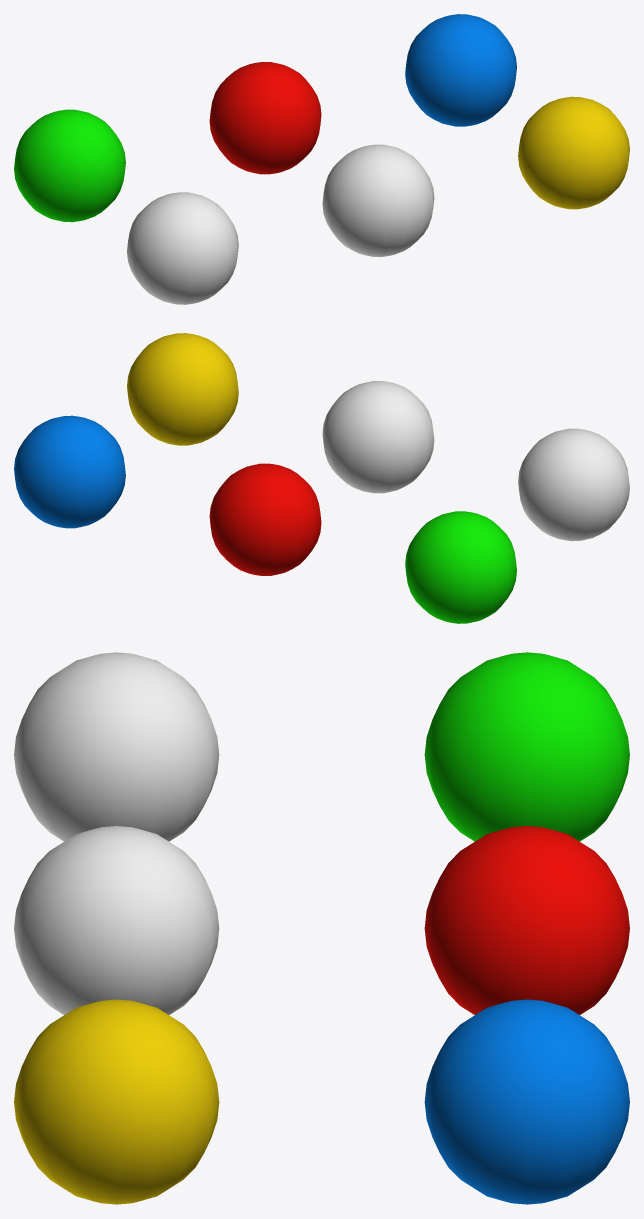
Rendered from pbr.glb.
3 renders of one model, top to bottom at view 1: azimuth 30°, elevation 25°; view 2: azimuth 150°, elevation 25°; view 3: azimuth 270°, elevation 25°, orthographic. The views are drawn at different scales.
Visible parts, largest first — view 1: Sphere, Sphere.005, Sphere.002, Sphere.003, Sphere.001, Sphere.004; view 2: Sphere.001, Sphere.004, Sphere.002, Sphere.003, Sphere, Sphere.005; view 3: Sphere, Sphere.004, Sphere.001, Sphere.005, Sphere.002, Sphere.003.
Boxes of the visible parts, left/top/right/bottom form: Sphere: left=518, top=96, right=629, bottom=209; Sphere.005: left=14, top=109, right=125, bottom=222; Sphere.002: left=322, top=144, right=434, bottom=256; Sphere.003: left=209, top=62, right=321, bottom=174; Sphere.001: left=127, top=192, right=238, bottom=304; Sphere.004: left=405, top=14, right=516, bottom=126; Sphere.001: left=518, top=428, right=629, bottom=541; Sphere.004: left=14, top=415, right=125, bottom=528; Sphere.002: left=322, top=381, right=434, bottom=493; Sphere.003: left=209, top=463, right=321, bottom=575; Sphere: left=127, top=333, right=238, bottom=445; Sphere.005: left=405, top=511, right=516, bottom=623; Sphere: left=14, top=999, right=219, bottom=1204; Sphere.004: left=424, top=999, right=629, bottom=1204; Sphere.001: left=14, top=652, right=219, bottom=841; Sphere.005: left=424, top=652, right=629, bottom=841; Sphere.002: left=14, top=826, right=219, bottom=1014; Sphere.003: left=424, top=826, right=629, bottom=1014.
Size of the model in its own units: 5 by 1 by 3.
